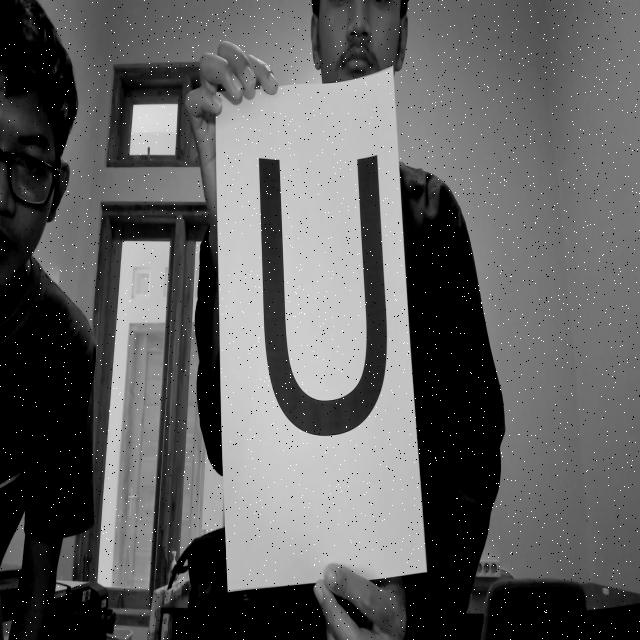u: (245, 148, 414, 444)
